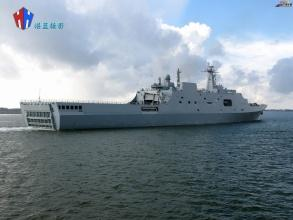warship: (13, 62, 263, 135)
